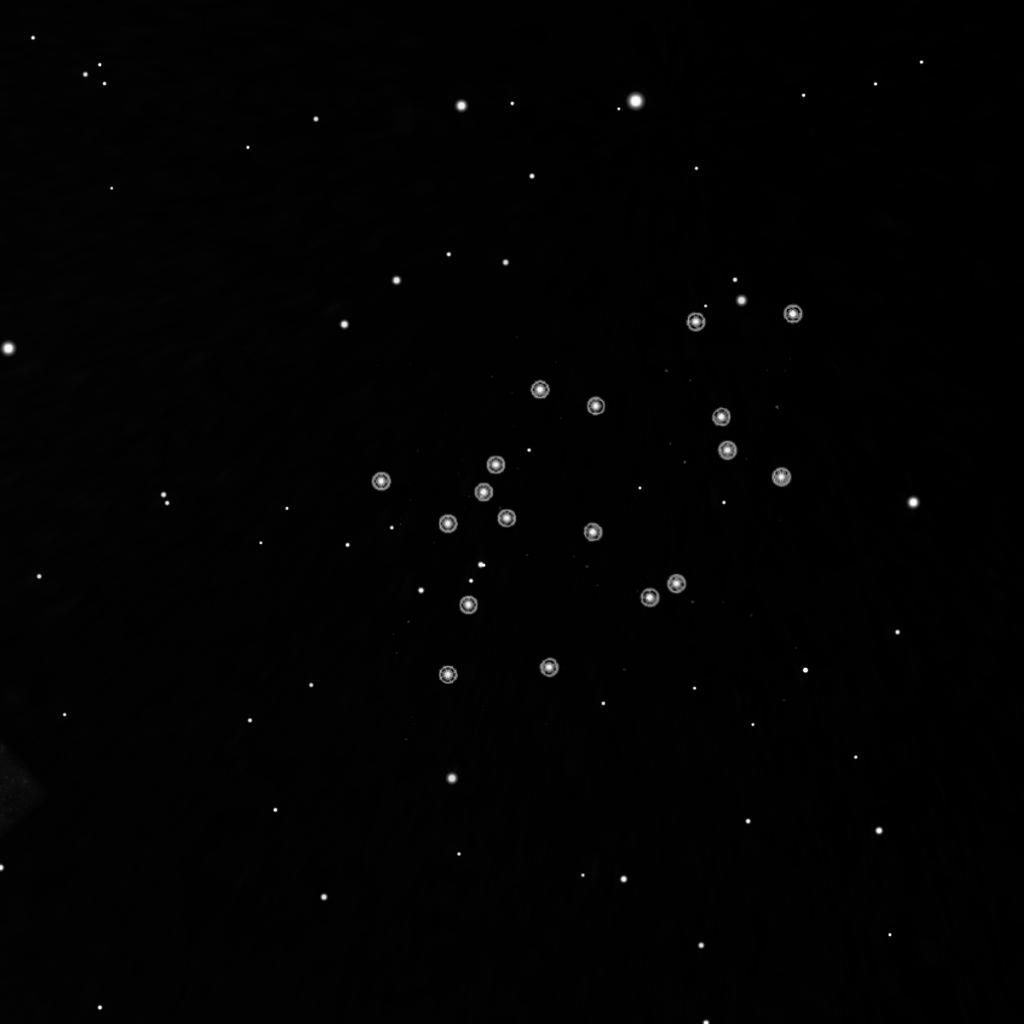canis_major: (432, 376, 613, 542)
